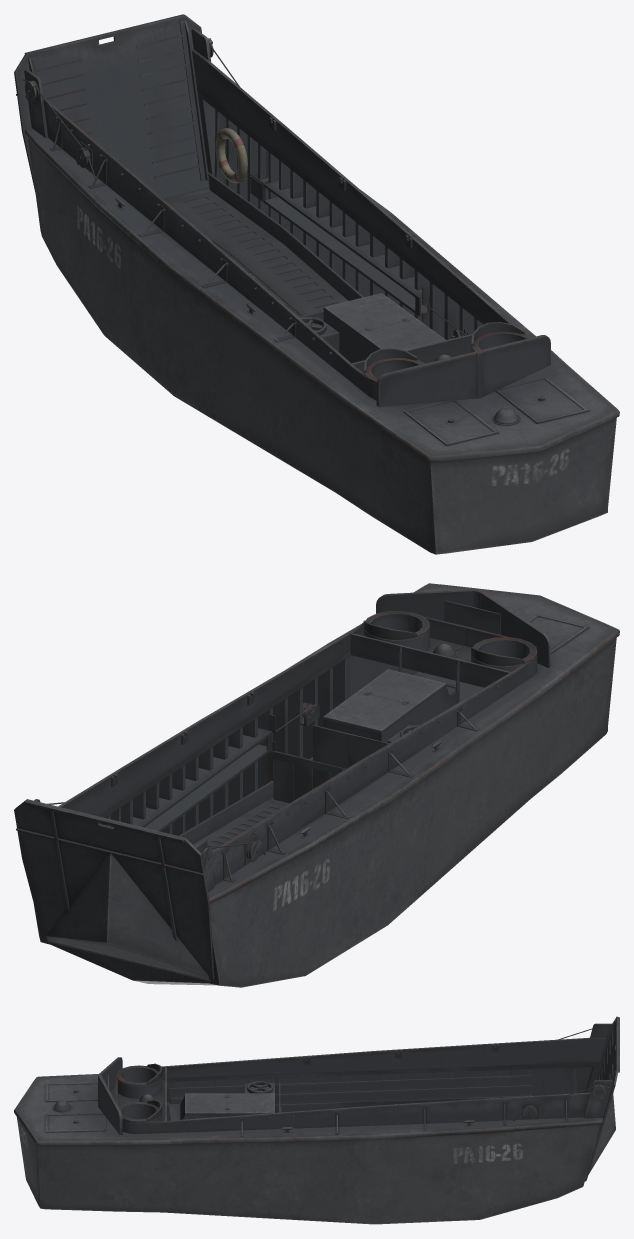
3 views of the same model, one above another, from view 1: azimuth 30°, elevation 25°; view 2: azimuth 150°, elevation 25°; view 3: azimuth 270°, elevation 25° (orthographic). The views are drawn at different scales.
Parts seen in each view (by area): view 1: lcvp, door, torret2, torret1, lifesaver; view 2: lcvp, door, torret2, torret1; view 3: lcvp, door, torret2, torret1.
Part boxes in pixels (box(x1,y1,x2,y2)): lcvp: box(24, 28, 619, 554); door: box(14, 14, 209, 198); torret2: box(364, 348, 425, 382); torret1: box(471, 322, 532, 351); lifesaver: box(215, 128, 247, 183); lcvp: box(34, 583, 619, 987); door: box(14, 799, 214, 980); torret2: box(471, 637, 537, 666); torret1: box(363, 610, 429, 639); lcvp: box(14, 1023, 613, 1224); door: box(585, 1016, 619, 1180); torret2: box(115, 1063, 162, 1085); torret1: box(119, 1100, 162, 1122).
Size of the model in its own units: 3.3 by 3.21 by 11.16.
Materials: 4 (4 with a texture image).
